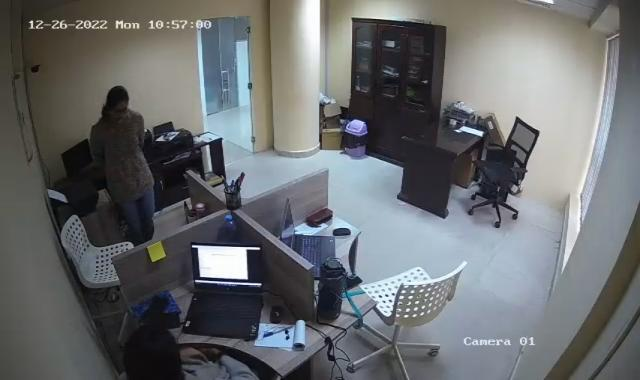no_hairnet: (122, 325, 182, 380), (104, 85, 132, 125)
